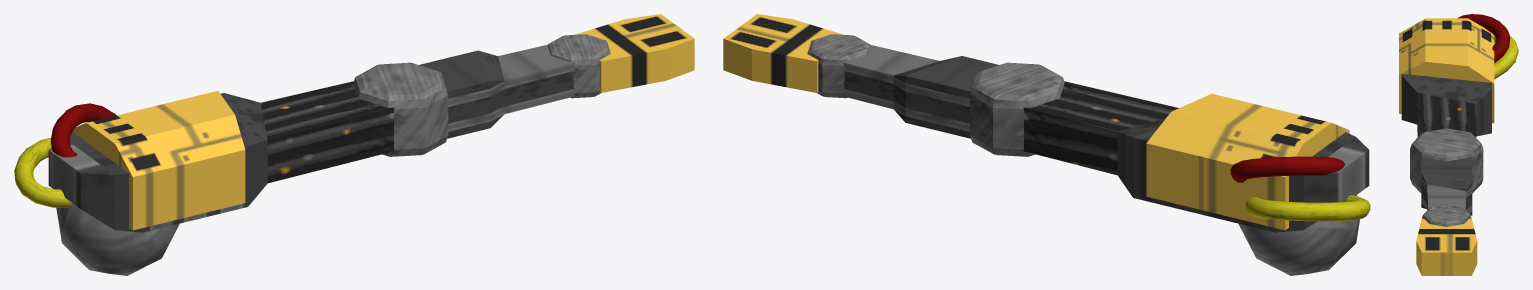
File: Robot 9 L arm.fbx
3 renders of one model, left to right at view 1: azimuth 30°, elevation 25°; view 2: azimuth 150°, elevation 25°; view 3: azimuth 270°, elevation 25°, orthographic. The views are drawn at different scales.
Visible parts, largest first — view 1: Icosphere.002, Cylinder.007, Cube.019; view 2: Icosphere.002, Cylinder.007, Cube.019; view 3: Icosphere.002, Cylinder.007, Cube.019.
Part boxes in pixels (box(x1,y1,x2,y2)): Icosphere.002: box(14, 81, 394, 275); Cylinder.007: box(353, 34, 610, 156); Cube.019: box(574, 14, 694, 92); Icosphere.002: box(1023, 81, 1370, 275); Cylinder.007: box(807, 34, 1064, 156); Cube.019: box(723, 14, 843, 92); Icosphere.002: box(1399, 14, 1518, 137); Cylinder.007: box(1410, 128, 1483, 226); Cube.019: box(1416, 218, 1477, 275).
Size of the model in its own units: 546 by 113 by 119.
